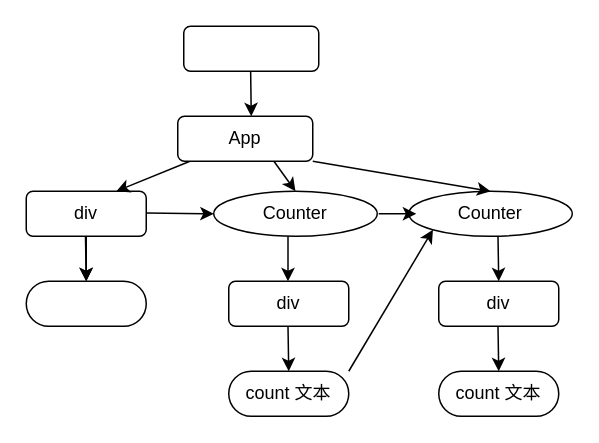
Image size: 599x443. Some labels were removed from this diagram. Here are the shapes that lost their labels. From the top down, the centre of each, then its label:
At [250,48]: "root".
At [85,303]: "hello-mini-react 文本".
